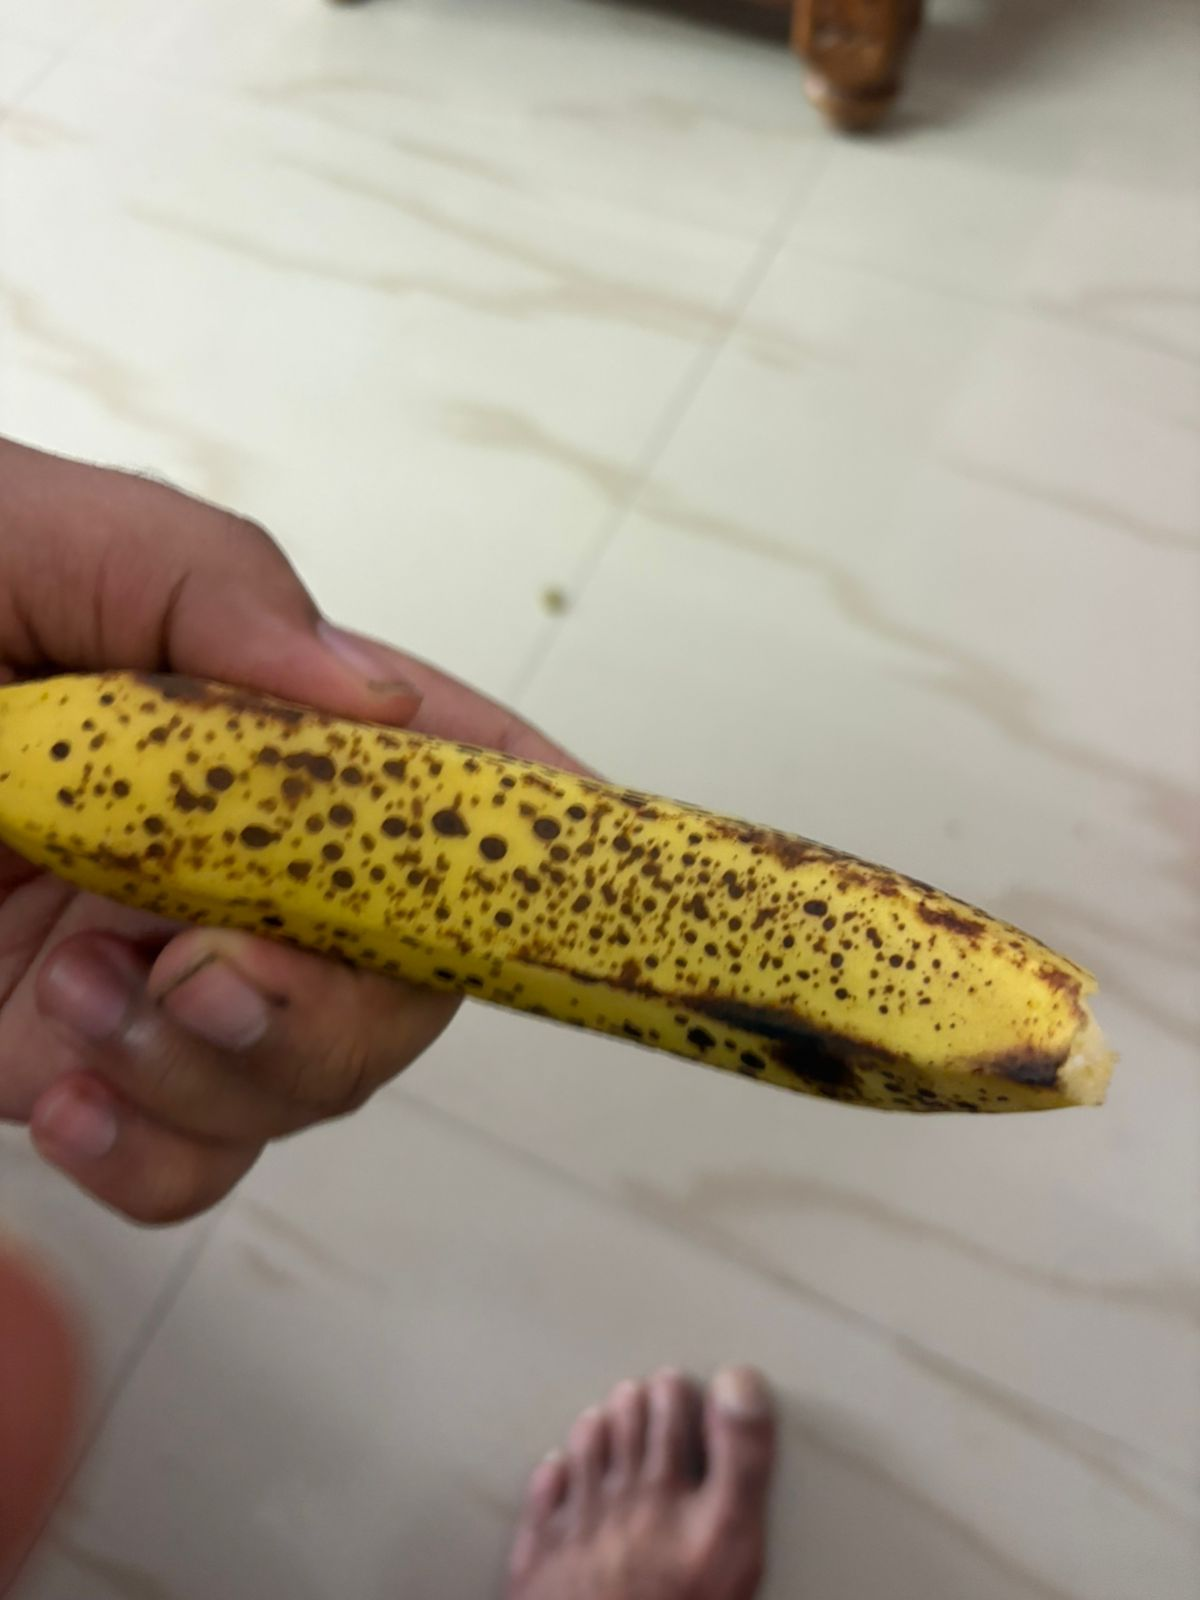wet: (1, 611, 1143, 1146)
